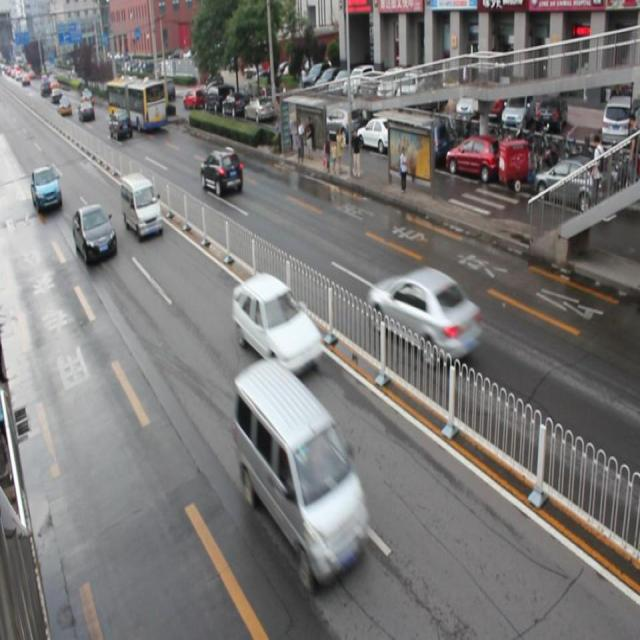car: (367, 264, 480, 362), (232, 271, 322, 371), (73, 202, 116, 259), (198, 146, 242, 198), (30, 166, 63, 212), (109, 108, 130, 143)
truck: (232, 359, 363, 584), (120, 174, 161, 238)
van: (108, 77, 166, 130)
